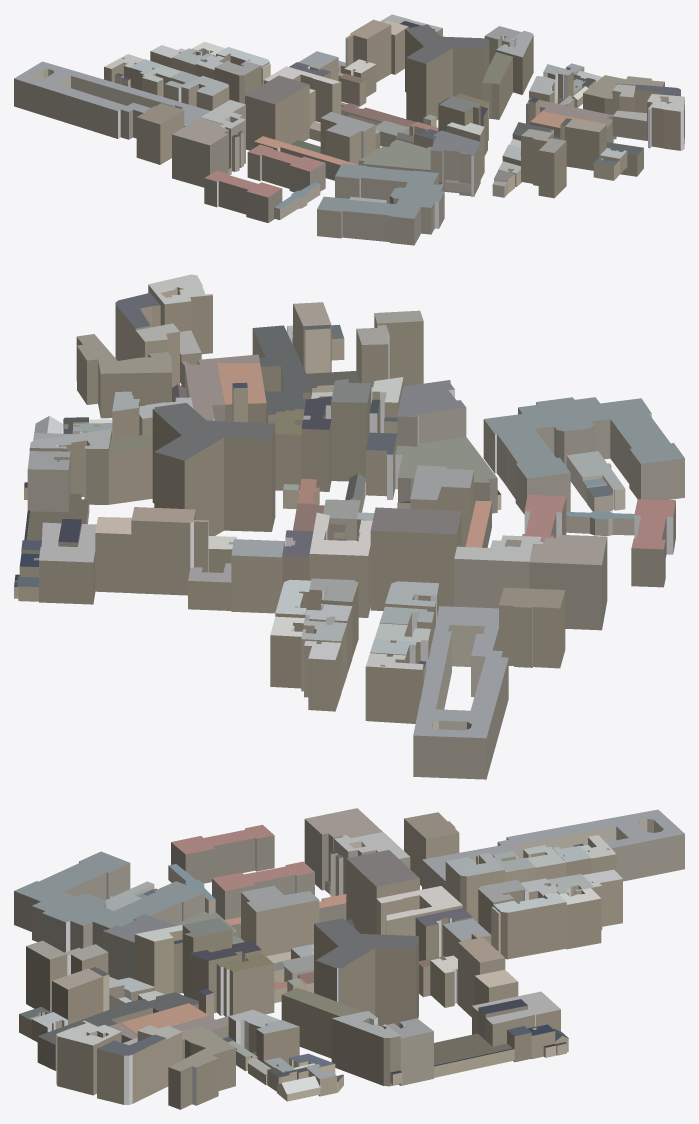
The picture shows the model from 3 angles, top to bottom: view 1: azimuth 30°, elevation 25°; view 2: azimuth 150°, elevation 25°; view 3: azimuth 270°, elevation 25°; orthographic projection. The views are drawn at different scales.
Parts seen in each view (by area): view 1: tuile; view 2: tuile; view 3: tuile.
Boxes of the visible parts, x1,y1,x2,y2 form: tuile: (14, 14, 684, 245); tuile: (14, 274, 684, 779); tuile: (14, 808, 684, 1109).
Bounding box in the file's own units: 299 × 45.41 × 294.
